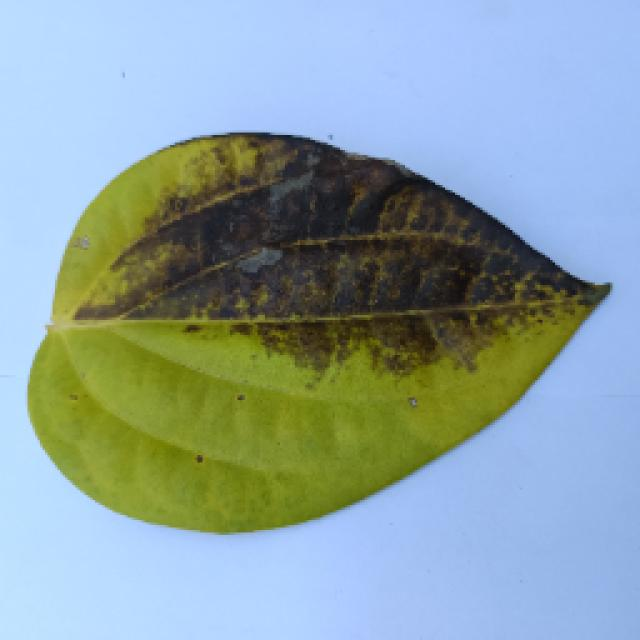slow-decline: (12, 135, 612, 547)
